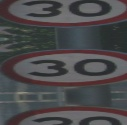Speed limit: (0, 44, 126, 89), (0, 0, 126, 26)
